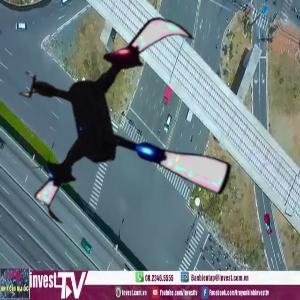drone: (9, 8, 249, 248)
